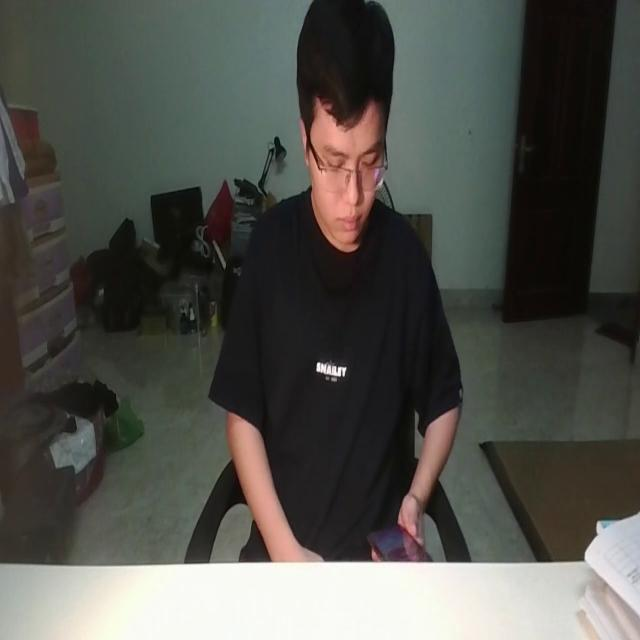phone: (367, 519, 431, 566)
student: (213, 0, 462, 561)
